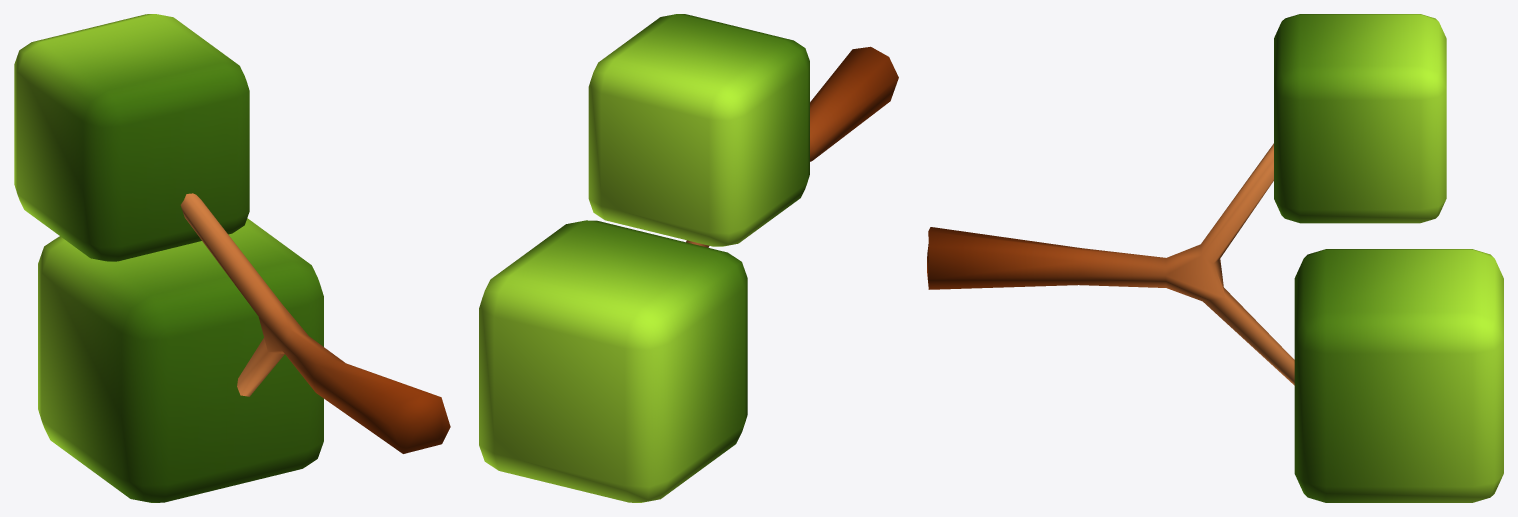
Rendered from smallTreessq.fbx.
3 renders of one model, left to right at view 1: azimuth 30°, elevation 25°; view 2: azimuth 150°, elevation 25°; view 3: azimuth 270°, elevation 25°, orthographic. The views are drawn at different scales.
Visible parts, largest first — view 1: treevar3.1; view 2: treevar3.1; view 3: treevar3.1.
Boxes of the visible parts, left/top/right/bottom form: treevar3.1: left=14, top=14, right=450, bottom=502; treevar3.1: left=479, top=14, right=898, bottom=502; treevar3.1: left=927, top=14, right=1503, bottom=502.
Bounding box in the file's own units: 315 × 524 × 686.
